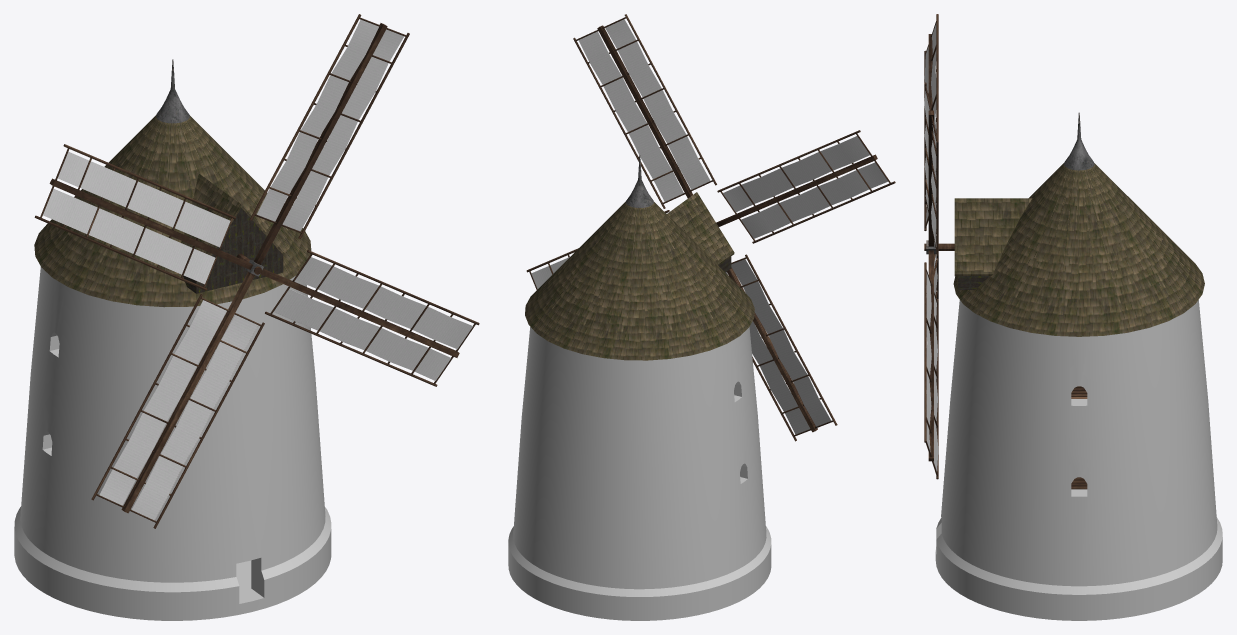
Rendered from villagehouse5.obj.
3 views of the same model, side by side, from view 1: azimuth 30°, elevation 25°; view 2: azimuth 150°, elevation 25°; view 3: azimuth 270°, elevation 25° (orthographic). The views are drawn at different scales.
Parts seen in each view (by area): view 1: Cylinder.001, Cylinder.023, Cube; view 2: Cylinder.001, Cylinder.023, Cube; view 3: Cylinder.001, Cube, Cylinder.023.
Boxes of the visible parts, x1,y1,x2,y2 form: Cylinder.001: (14, 266, 331, 620); Cylinder.023: (34, 14, 479, 528); Cube: (34, 59, 311, 307); Cylinder.001: (508, 327, 771, 620); Cylinder.023: (526, 14, 895, 441); Cube: (525, 155, 754, 360); Cylinder.001: (935, 300, 1222, 620); Cube: (953, 112, 1204, 336); Cylinder.023: (924, 14, 954, 479).
Bounding box in the file's own units: 26.79 × 33.27 × 17.23.
